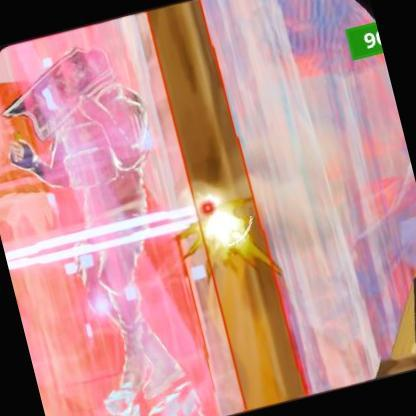person: (0, 22, 216, 393)
